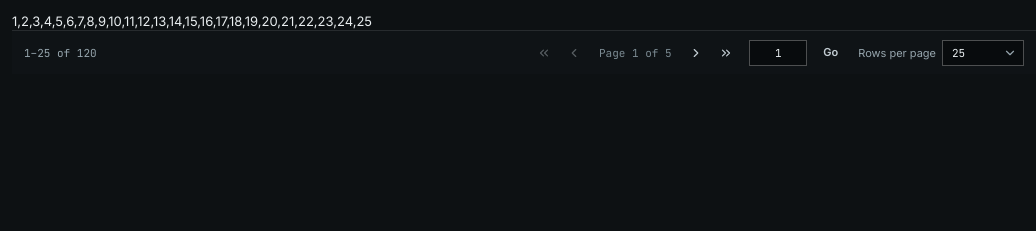
Scenario: pagination footer › changes page size through the custom Select and returns to page 1
The width and height of the screenshot is (1036, 231).
Step 1. Click the button named "Next page" → (696, 52), box [683,40,709,66]
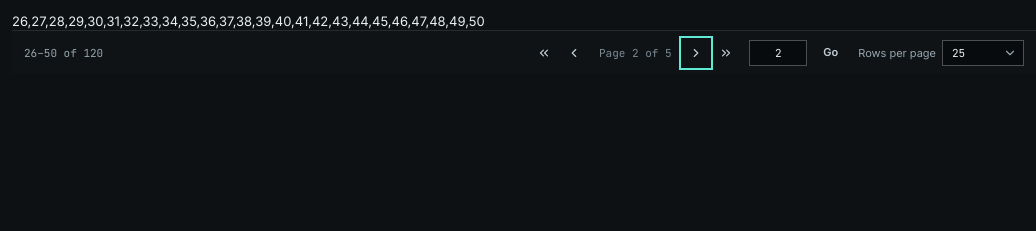
Now the text "Page 2 of 5" is shown, box [599,46,672,60]
Step 2. Click the dropdown named "Rows per page" → (983, 52), box [942,40,1024,66]
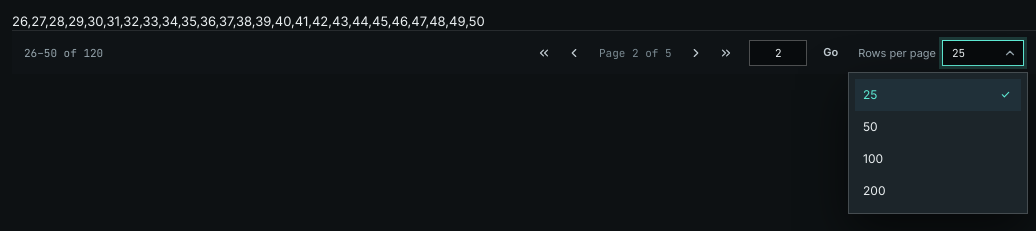
Step 3. Click the option "50" → (870, 126), box [863,118,878,134]
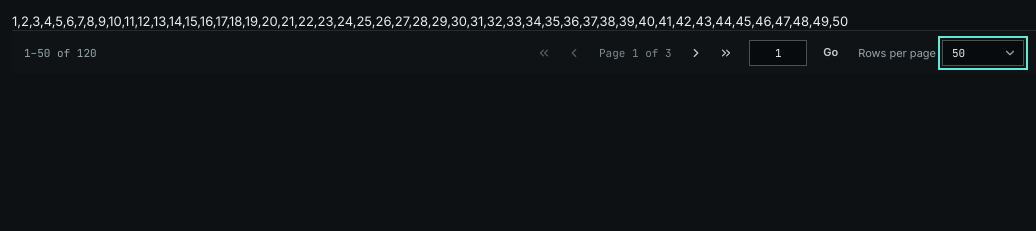
Now the text "1–50 of 120" is shown, box [24,44,97,62]
Now the text "Page 1 of 3" is shown, box [599,46,672,60]
